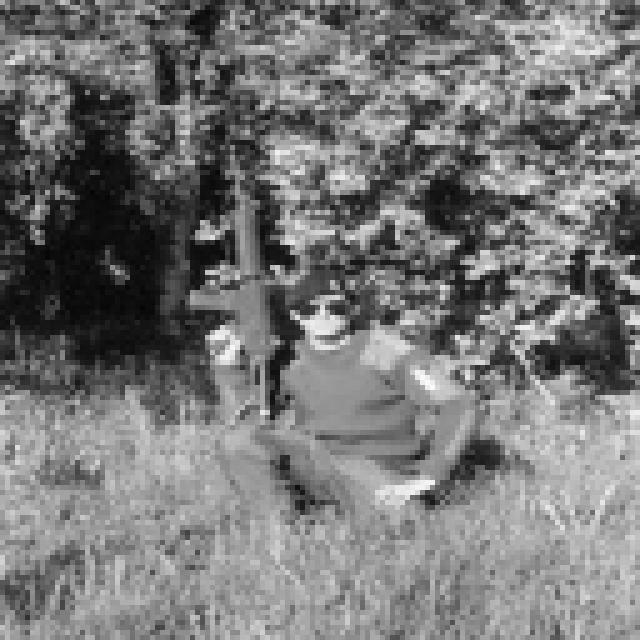Rifle: (184, 154, 324, 443)
